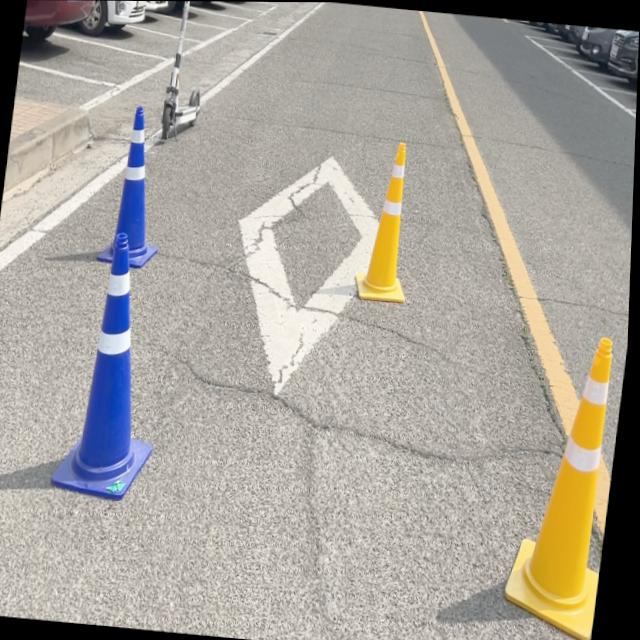b_rub: (54, 231, 155, 499), (98, 104, 160, 266)
y_rub: (510, 336, 615, 640), (358, 140, 407, 301)
